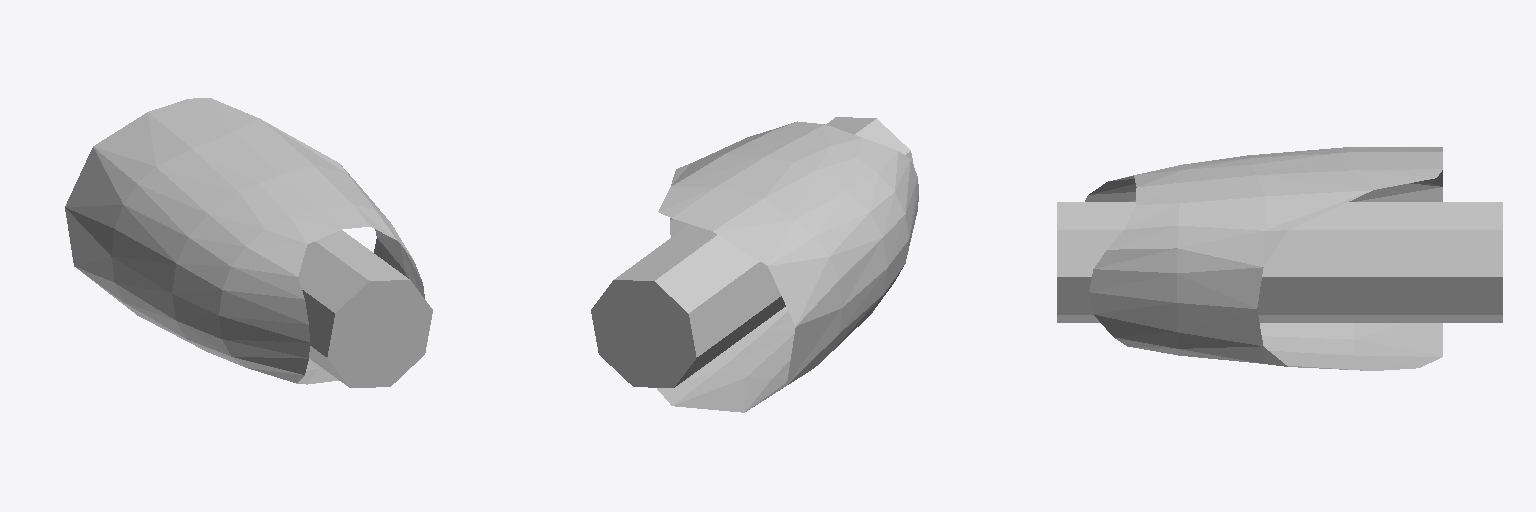
The model's file is icub_simple_collision_l_forearm.obj.
The picture shows the model from 3 angles: view 1: azimuth 30°, elevation 25°; view 2: azimuth 150°, elevation 25°; view 3: azimuth 270°, elevation 25°; orthographic projection.
Parts seen in each view (by area): view 1: l_forearm_mesh_l_forearm; view 2: l_forearm_mesh_l_forearm; view 3: l_forearm_mesh_l_forearm.
Boxes of the visible parts, <box> form: l_forearm_mesh_l_forearm: <box>65,98,432,387</box>; l_forearm_mesh_l_forearm: <box>591,117,918,412</box>; l_forearm_mesh_l_forearm: <box>1057,147,1502,370</box>.
Bounding box in the file's own units: 0.0795 × 0.0652 × 0.14.